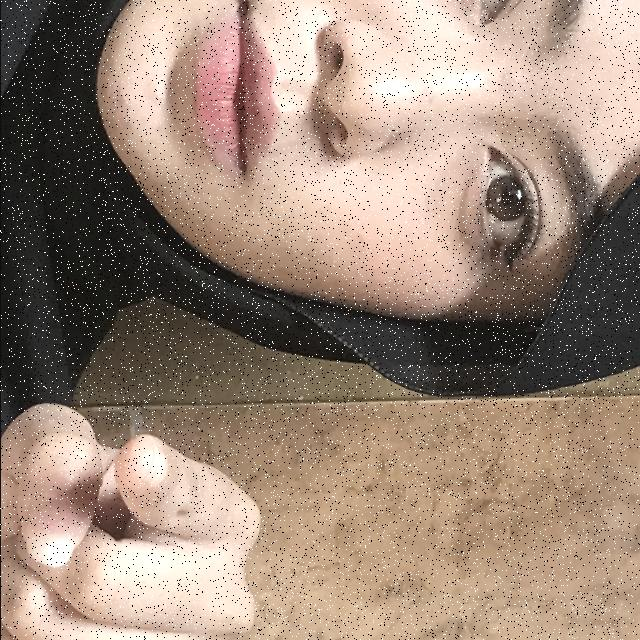kamu: (0, 260, 334, 640)
